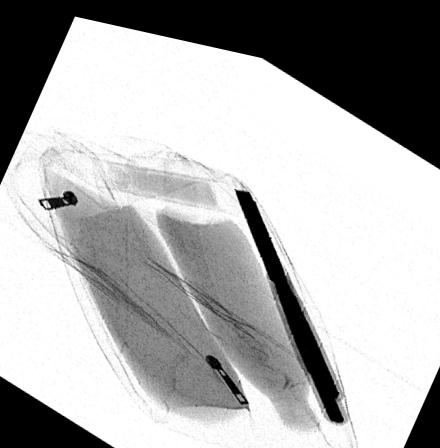Pliers: (232, 175, 345, 408)
